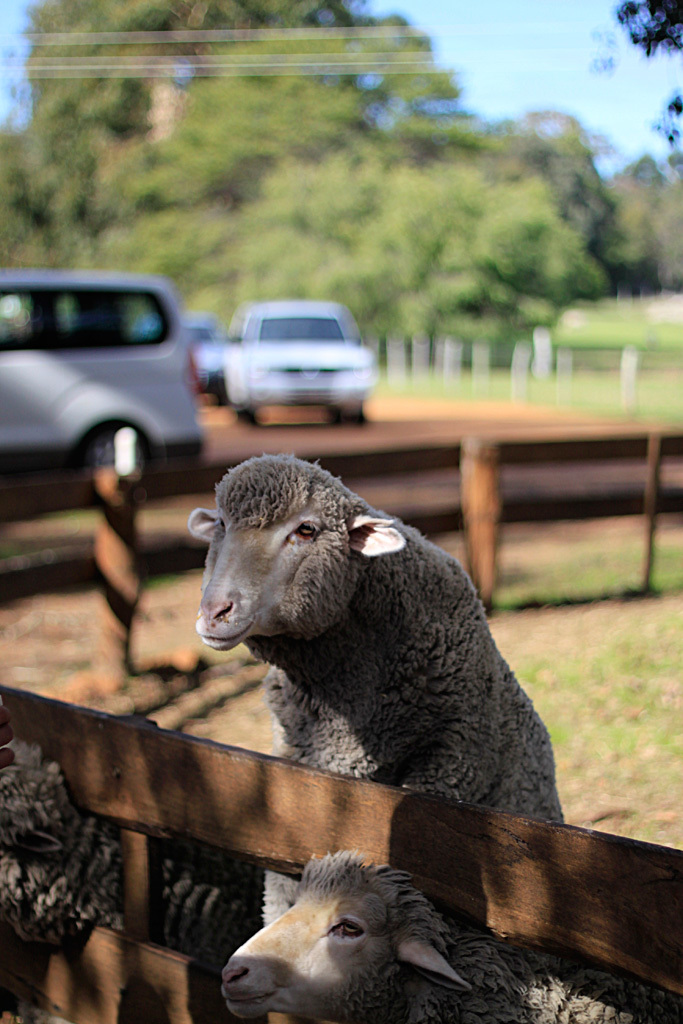Car: (0, 273, 209, 467), (200, 295, 374, 421), (180, 318, 238, 384)
